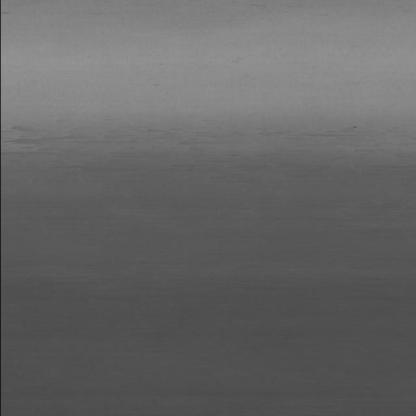water_spot: (4, 123, 350, 188)
